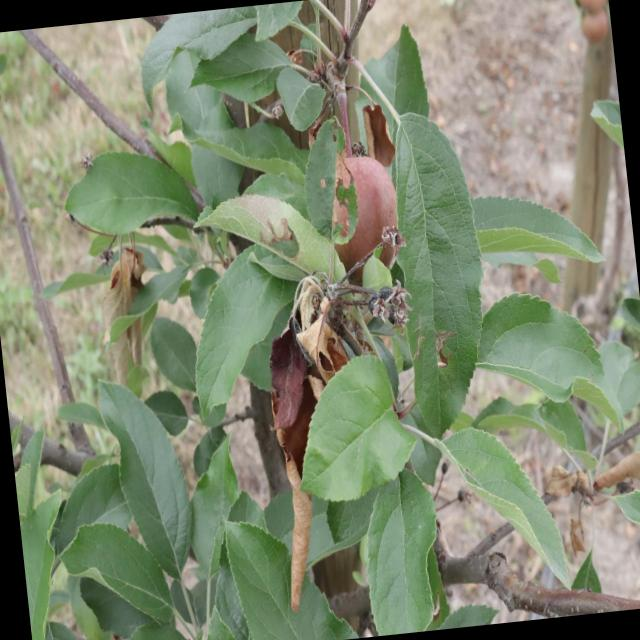-FireBlight-: (269, 258, 412, 366), (240, 332, 321, 457), (94, 231, 154, 354), (276, 441, 316, 617), (357, 82, 403, 180)
